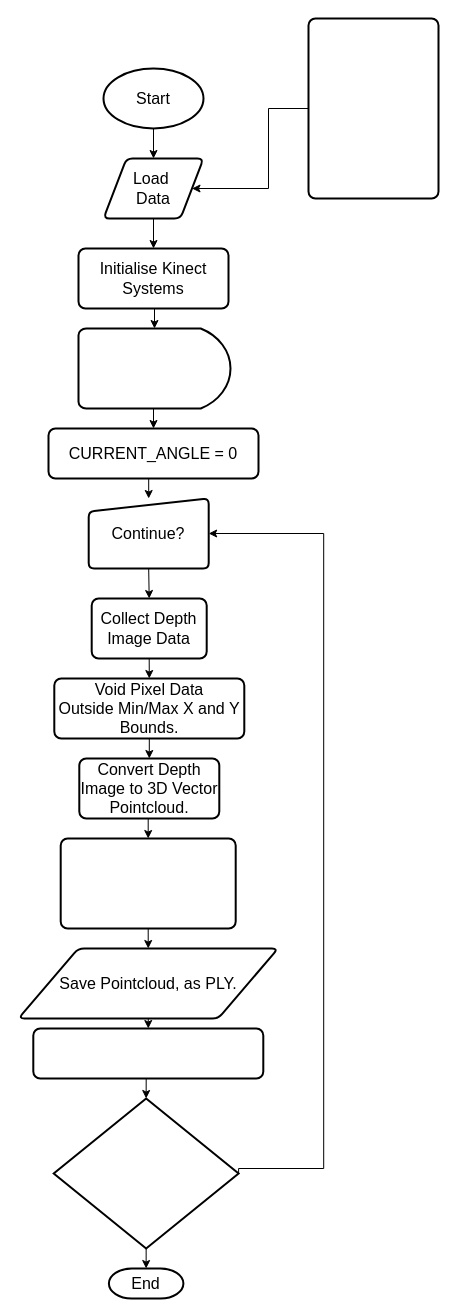
The diagram is 456 pixels wide and 1316 high, and some of its shapes have lost their labels. Here are the shapes that lost their labels. From the top down, the centre of each, then its label:
At point 373,108: "EXAMPLE DATA: Increment Amount = 45 MIN_X, MIN_Y = 0 MAX_X = 512 MAX_Y = 424".
At point 154,368: "Wait until Kinect Subsystems Initialised".
At point 147,883: "Rotate Pointcloud based on CURRENT_ANGLE".
At point 148,1053: "Add Increment Amount to CURRENT_ANGLE".
At point 145,1173: "CURRENT_ANGLE is 360".
